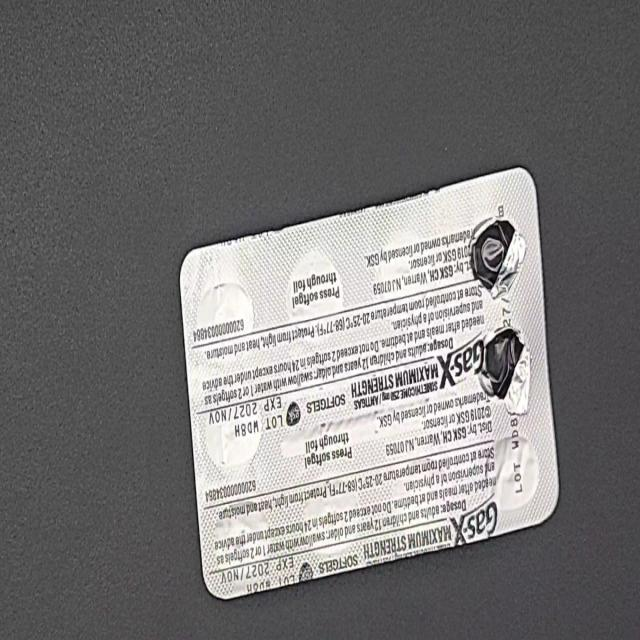defect: (468, 212, 528, 302), (477, 323, 533, 419)
